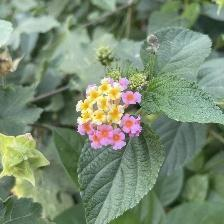common lanthana: (75, 76, 146, 151)
